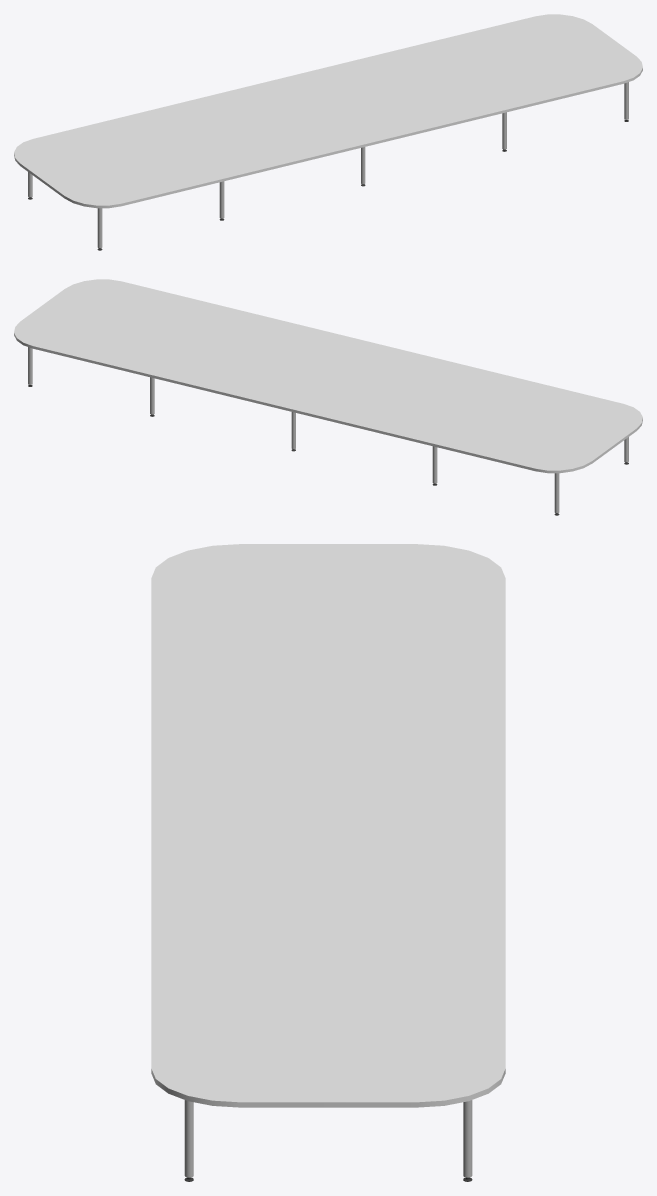
The model's file is MeetingDesk_01.fbx.
3 views of the same model, one above another, from view 1: azimuth 30°, elevation 25°; view 2: azimuth 150°, elevation 25°; view 3: azimuth 270°, elevation 25° (orthographic). The views are drawn at different scales.
Visible parts, largest first — view 1: Table 7; view 2: Table 7; view 3: Table 7.
Part boxes in pixels (bbox=[...]): Table 7: bbox=[14, 14, 642, 250]; Table 7: bbox=[14, 279, 642, 515]; Table 7: bbox=[151, 544, 505, 1181].
Bounding box in the file's own units: 881 × 73.44 × 236.
